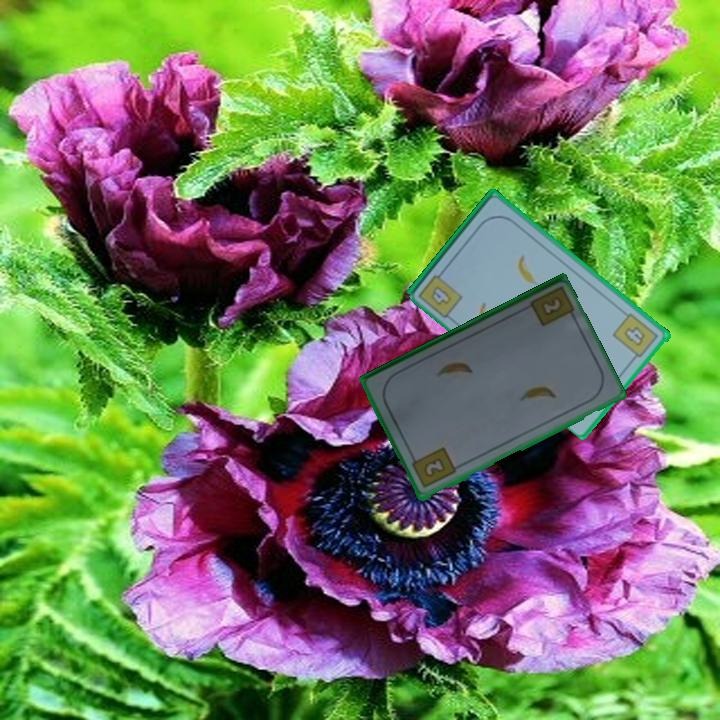2b: (408, 444, 459, 492), (537, 295, 563, 319)
4b: (415, 265, 466, 321), (610, 310, 662, 364)
